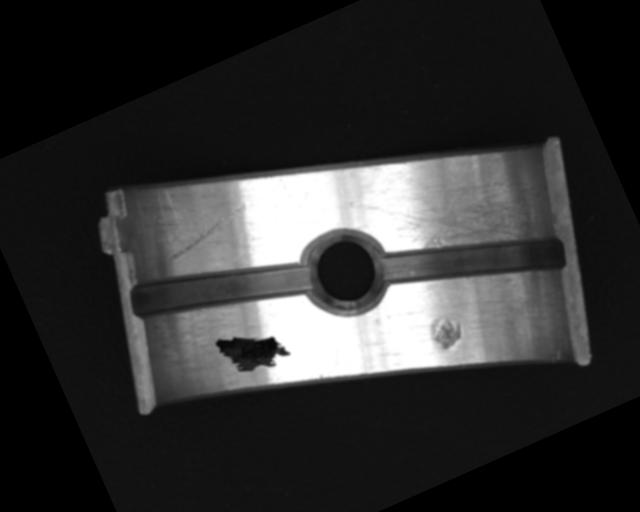blot: (212, 312, 294, 385)
bruise: (423, 308, 468, 354)
gap: (375, 186, 570, 333), (126, 217, 318, 358)
hole: (293, 219, 397, 323)
nick: (157, 201, 256, 265)
scratch: (366, 137, 558, 290)
